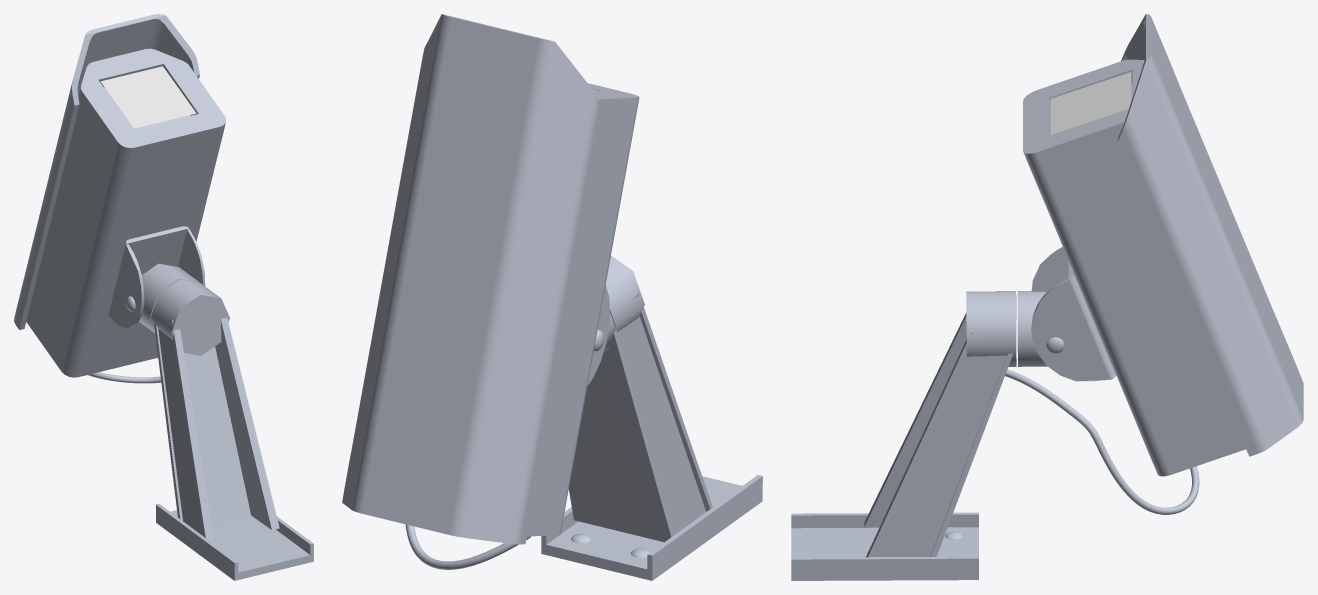
Rendered from omgpelase.gltf.
3 renders of one model, left to right at view 1: azimuth 30°, elevation 25°; view 2: azimuth 150°, elevation 25°; view 3: azimuth 270°, elevation 25°, orthographic. The views are drawn at different scales.
Parts seen in each view (by area): view 1: Object_12, Object_6, Object_11, Object_7, Object_13, Object_10, Plane.001, Object_5, Object_4; view 2: Object_11, Object_6, Object_12, Object_7, Object_10, Object_4, Object_13; view 3: Object_12, Object_11, Object_6, Object_7, Object_13, Object_10, Plane.001, Object_4, Object_5.
Boxes of the visible parts, box(x1,y1,x2,y2) form: Object_12: box(26, 48, 226, 377); Object_6: box(154, 317, 279, 544); Object_11: box(14, 14, 199, 329); Object_7: box(156, 503, 313, 580); Object_13: box(108, 226, 205, 327); Object_10: box(150, 279, 229, 355); Plane.001: box(100, 66, 196, 128); Object_5: box(139, 263, 199, 333); Object_4: box(88, 372, 161, 383); Object_11: box(342, 14, 602, 544); Object_6: box(569, 291, 712, 542); Object_12: box(527, 83, 639, 536); Object_7: box(541, 475, 762, 580); Object_10: box(603, 256, 644, 352); Object_4: box(405, 524, 531, 569); Object_13: box(587, 285, 609, 385); Object_12: box(1023, 59, 1245, 476); Object_11: box(1118, 14, 1303, 456); Object_6: box(864, 313, 1012, 557); Object_7: box(791, 512, 978, 580); Object_13: box(1031, 246, 1116, 381); Object_10: box(966, 291, 1016, 366); Plane.001: box(1050, 72, 1131, 134); Object_4: box(1005, 369, 1199, 514); Object_5: box(1017, 291, 1047, 366).
Bounding box in the file's own units: 1.26 × 3.92 × 3.48.
